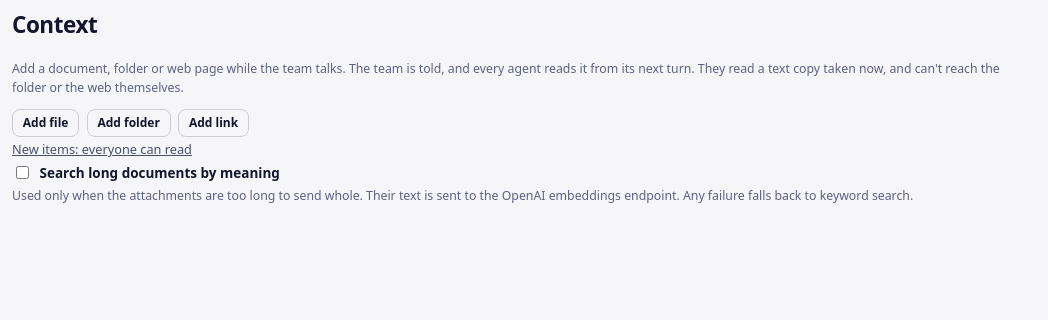
it: ContextCard › adds a link, then removes it
Click the button "Add link" at point(214, 123), box [178, 109, 249, 137]
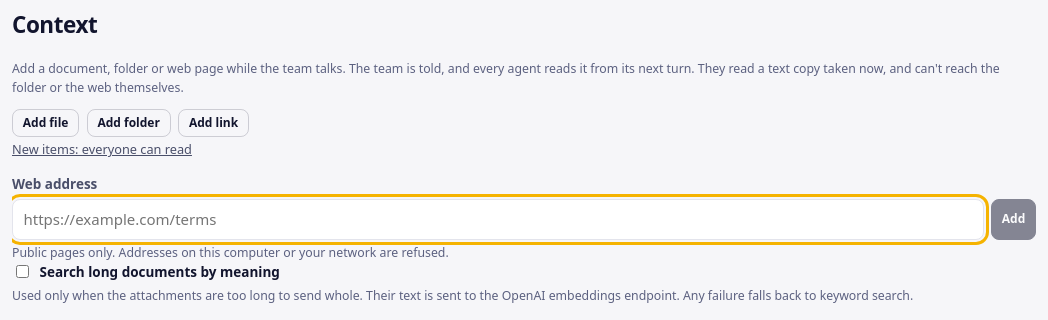
Type "https://e.com" into the field labelled "Web address" at point(498, 219), box [12, 198, 984, 240]
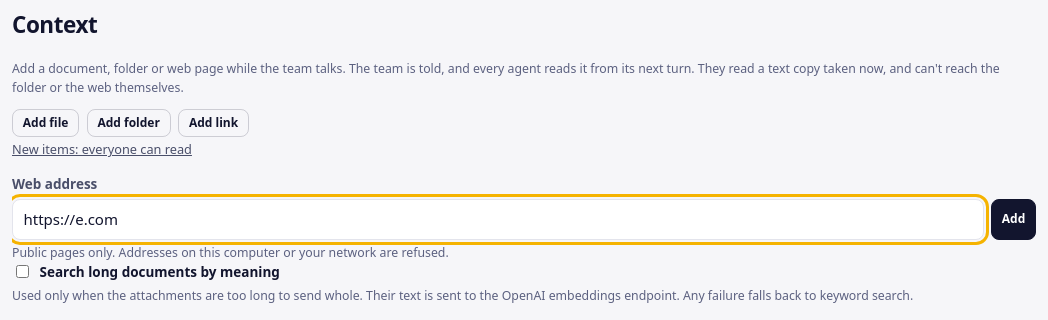
Click the button "Add" at point(1014, 219), box [991, 198, 1036, 240]
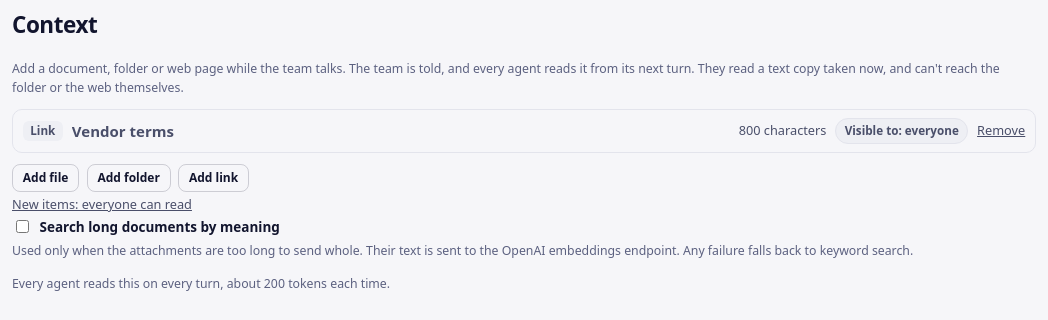
Click the button with aria-label "remove vendor terms" at point(1001, 131), box [977, 118, 1025, 143]
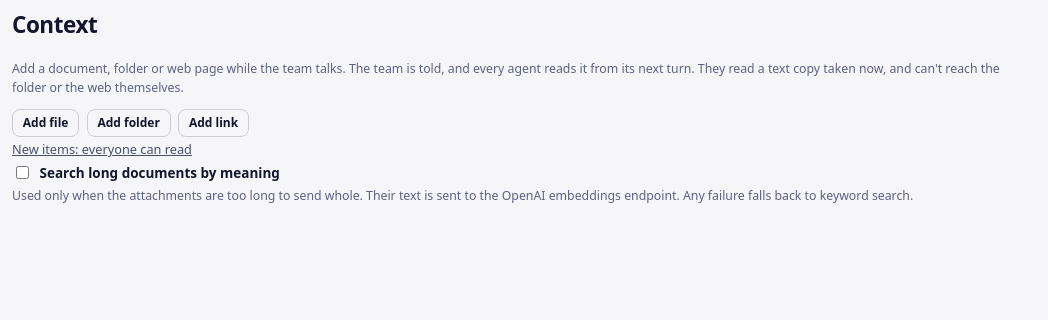
Now the text "Vendor terms" is gone
